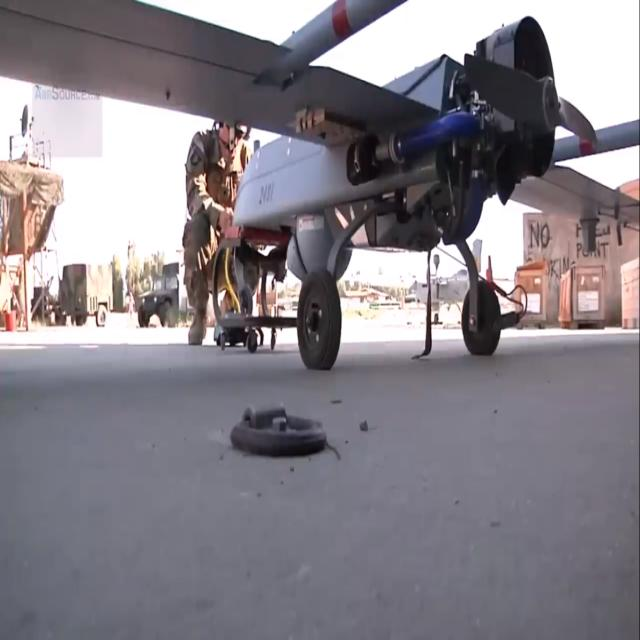drones: (187, 0, 640, 367)
